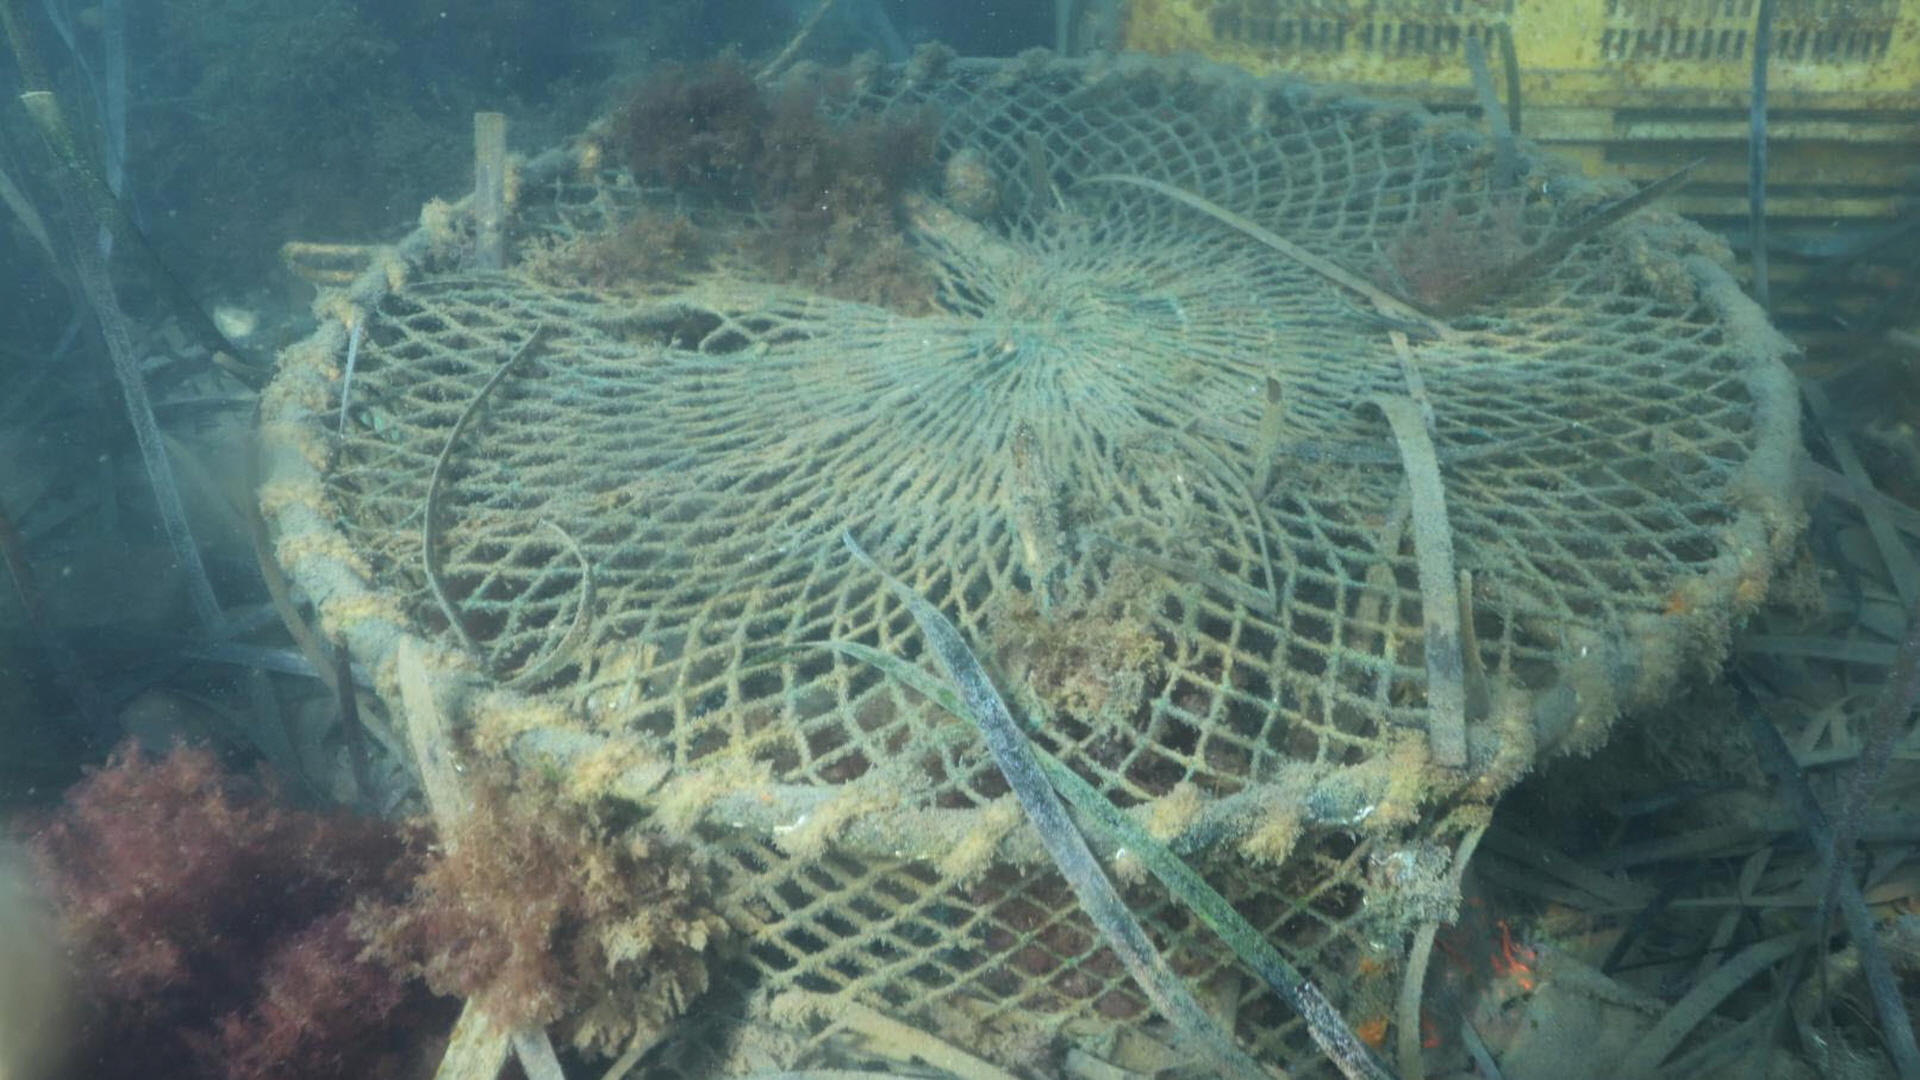circular fish trap: (256, 37, 1801, 1080)
rope: (278, 239, 378, 284)
